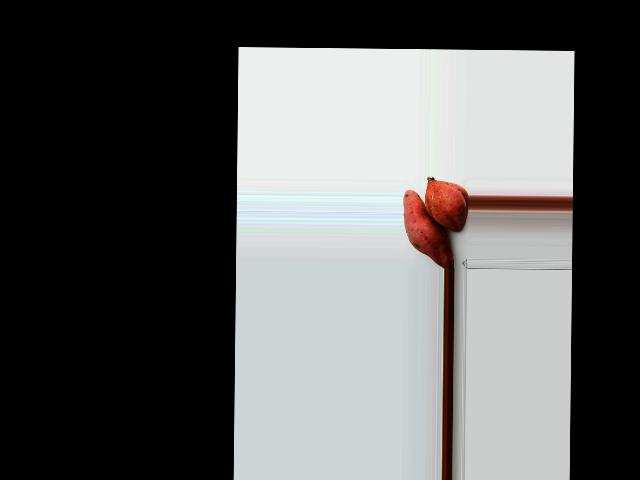sweet_potato: (428, 176, 463, 228)
